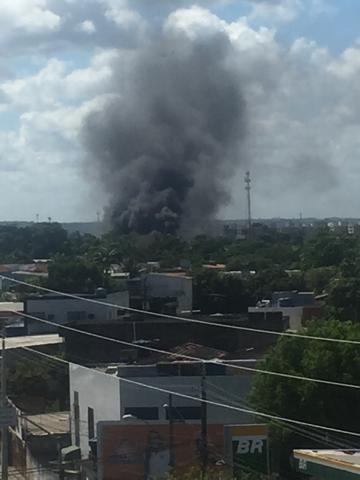smoke: (124, 69, 206, 216)
